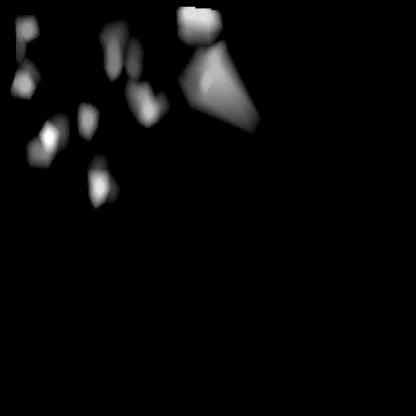palm: (11, 13, 107, 204)
thumb: (101, 7, 254, 128)
